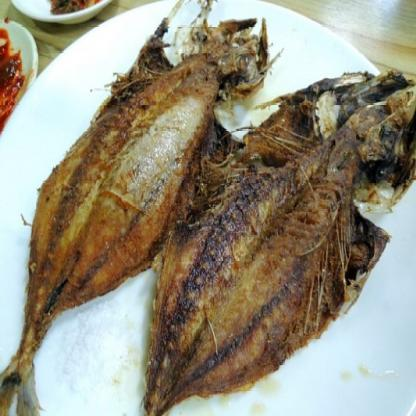Peixe: (0, 13, 416, 414)
